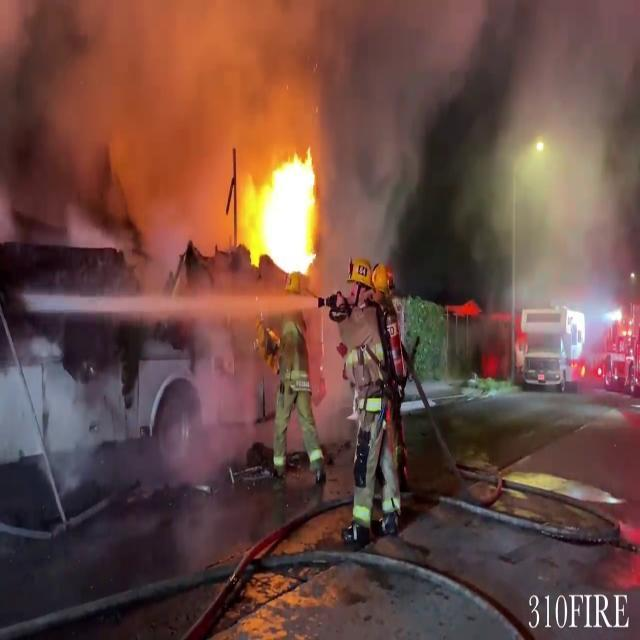Fire: (253, 146, 321, 282)
Smoke: (4, 0, 472, 297), (496, 0, 640, 354)
